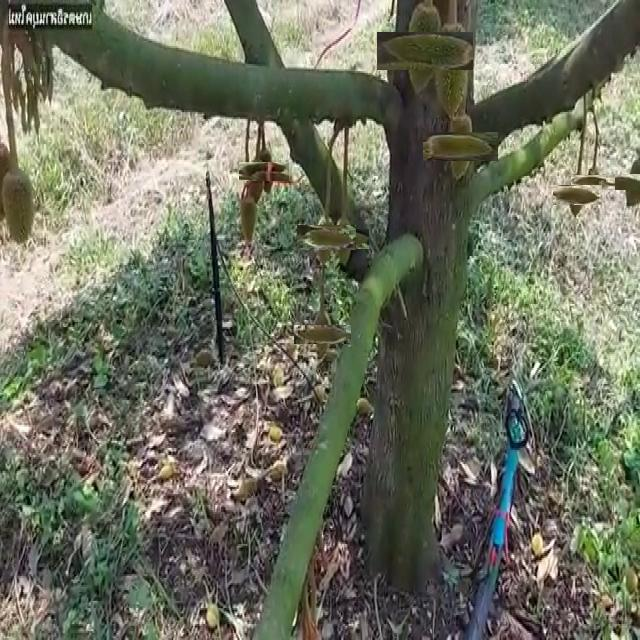durian: (391, 17, 458, 85), (432, 17, 472, 119), (1, 165, 38, 248), (434, 121, 487, 173), (305, 217, 348, 259), (303, 315, 341, 354), (326, 222, 362, 257), (560, 177, 595, 213), (247, 154, 282, 189), (239, 190, 258, 246), (613, 162, 640, 200), (578, 167, 608, 197), (247, 156, 265, 205)
